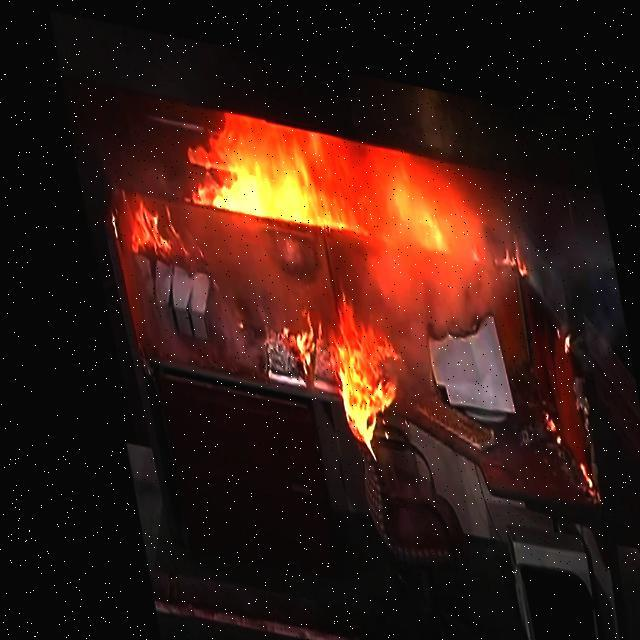Fire: (172, 94, 522, 254), (300, 278, 410, 450), (108, 186, 185, 260)
